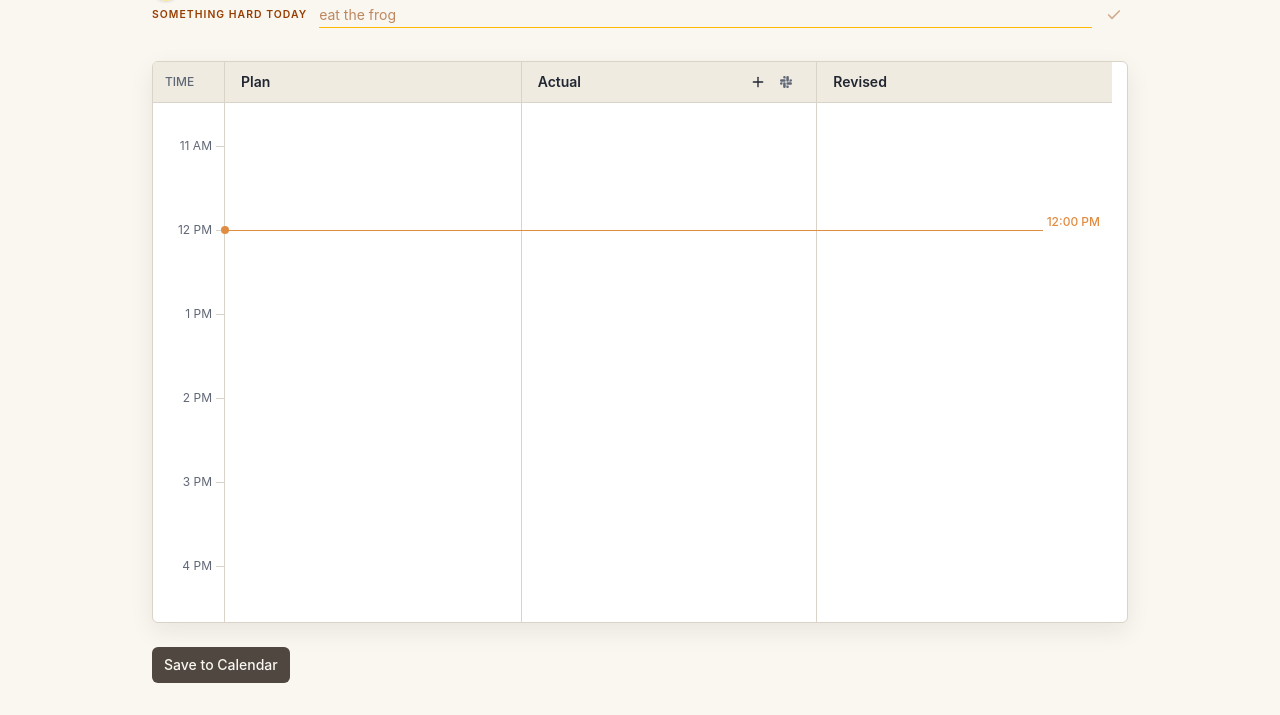
it: App Actual Calendar saving › saves a nonmatching Actual and persists its Calendar disposition
(page scrolled)
Click the button "Save to Calendar": [221, 665] box x1=152 y1=647 x2=290 y2=683
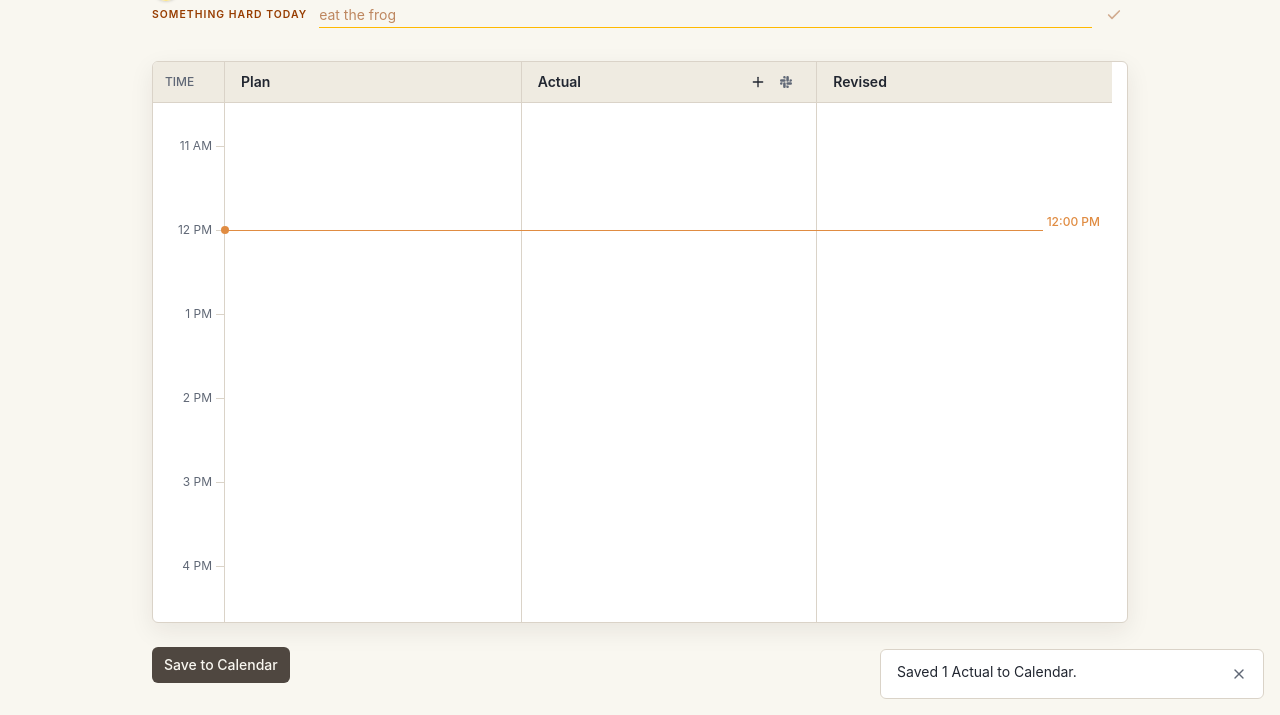
Check: the message with test id "calendar-save-toast" reads "Saved 1 Actual to Calendar.", box x1=897 y1=663 x2=1077 y2=680
